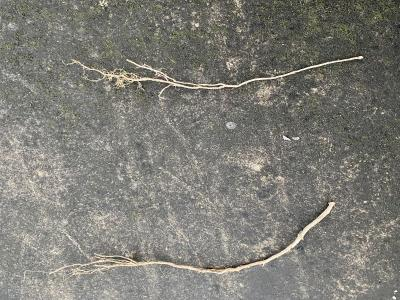Root: (49, 202, 335, 276), (63, 56, 363, 97)
